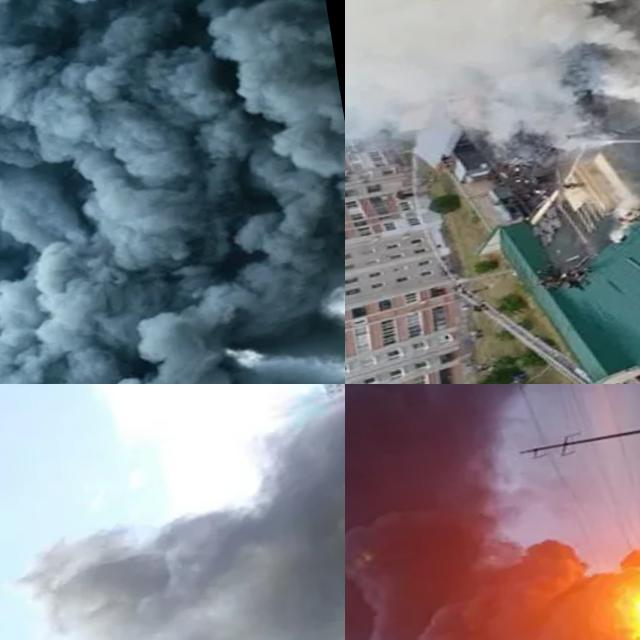smoke: (0, 0, 345, 384), (0, 384, 345, 638), (345, 384, 640, 640), (345, 0, 640, 198)
